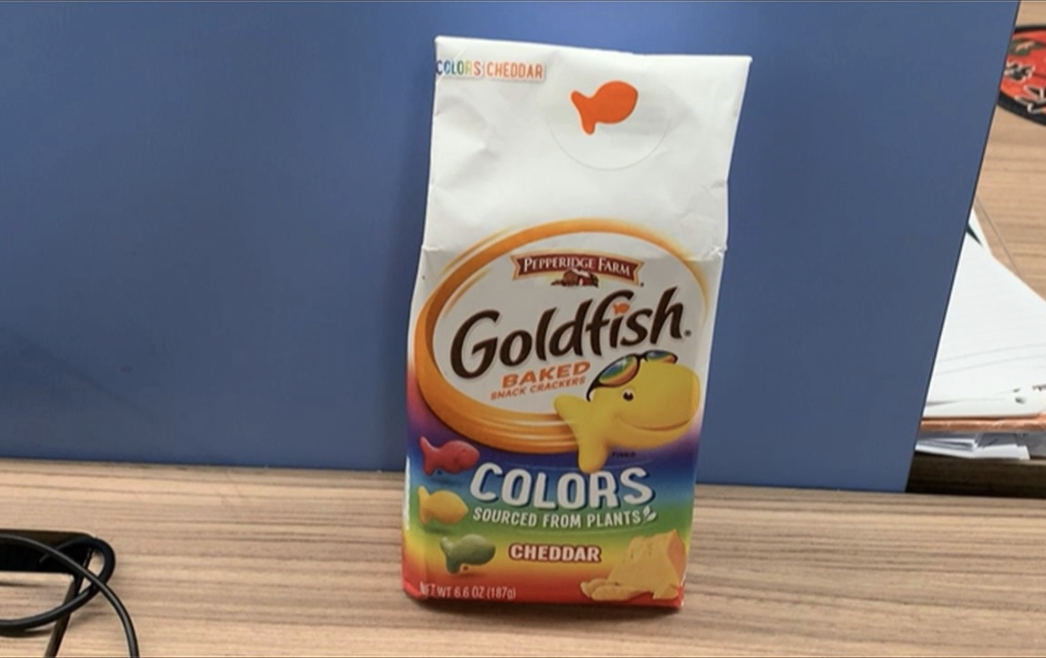crackers_150g: (426, 52, 683, 594)
